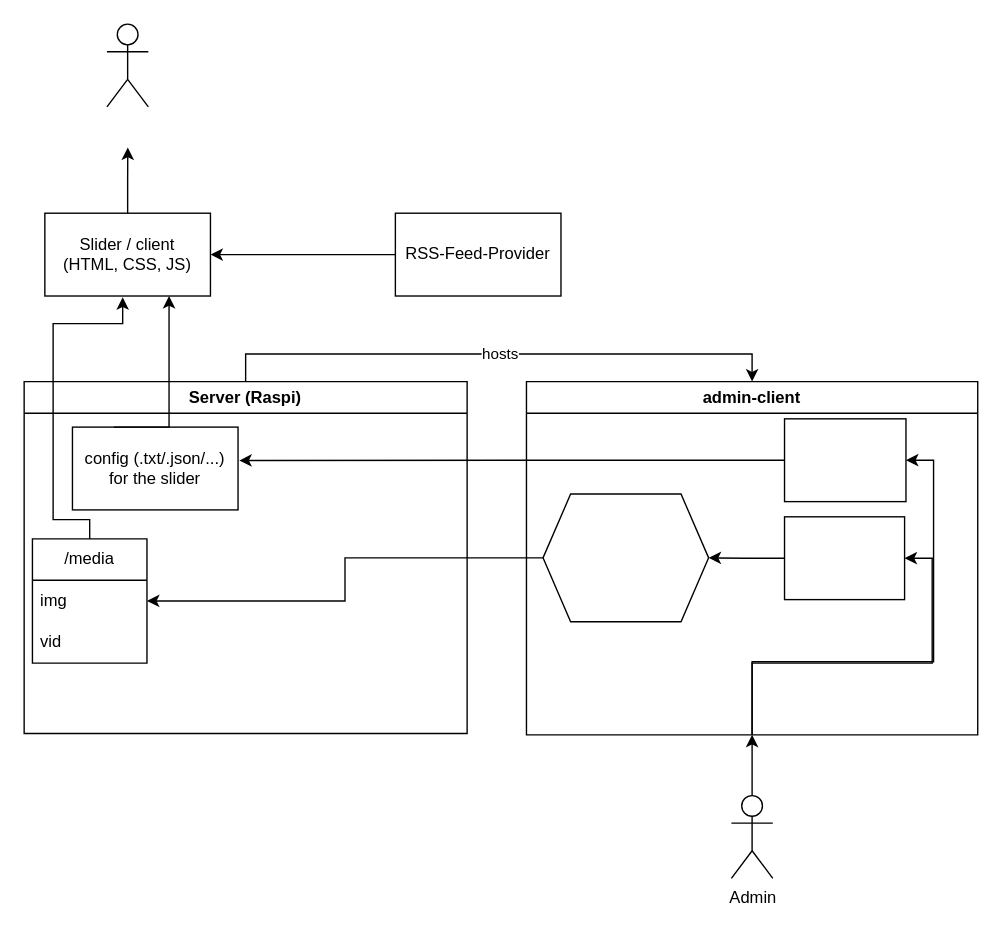
This 1002x932 diagram has some shape labels left out. Each missing label, with the centre of its shape:
config: [844,459]
mode: - overwrite - add Array of the uploadmedia: [625,557]
uploadMedia: [844,557]
User (Lobbyfernseher): [127,65]
